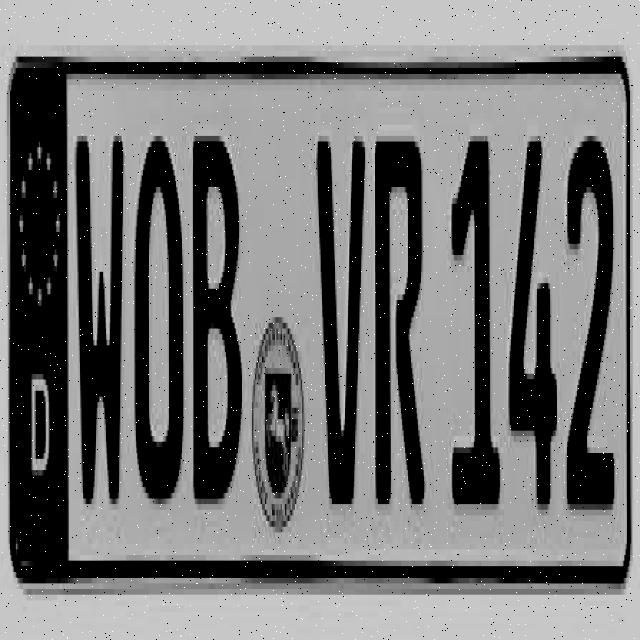Allemagne: (13, 71, 67, 573)
EU: (8, 61, 628, 588)
